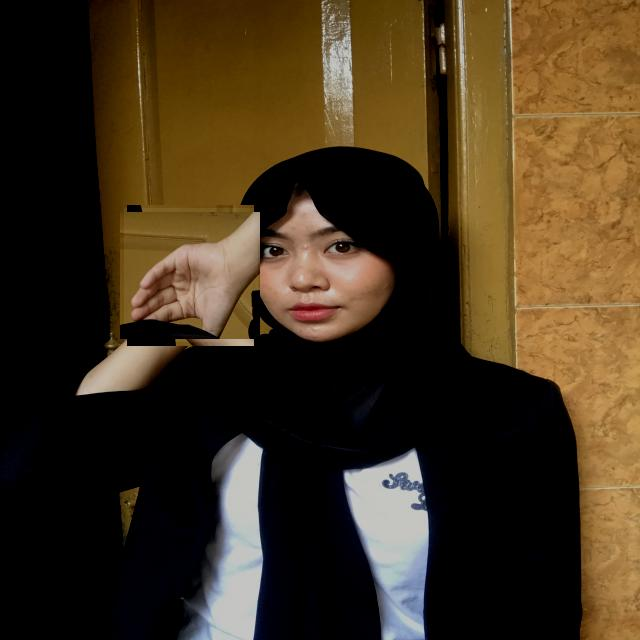mendengar: (124, 208, 258, 342)
